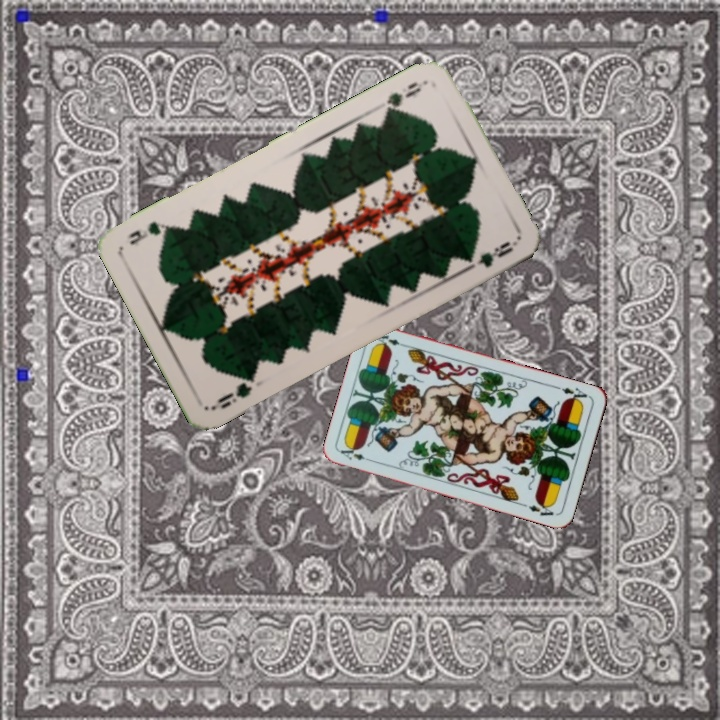EA: (552, 382, 592, 406), (337, 442, 376, 465)
G9: (208, 369, 258, 413), (381, 76, 431, 117)
